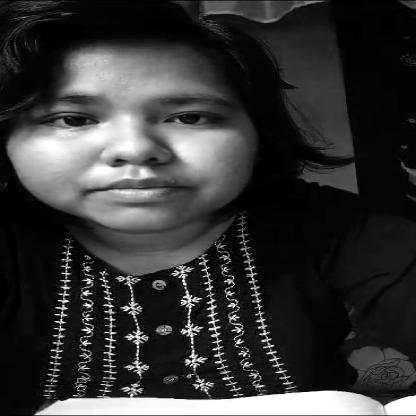Normal: (0, 21, 276, 257)
